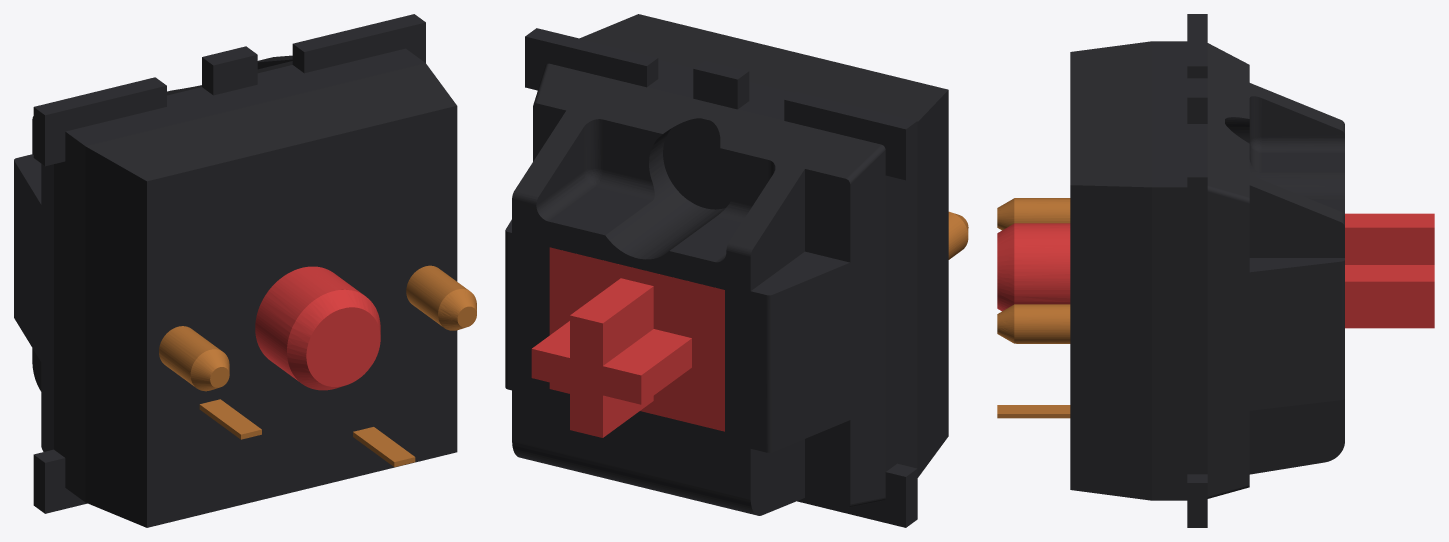
Rendered from switch.glb.
3 renders of one model, left to right at view 1: azimuth 30°, elevation 25°; view 2: azimuth 150°, elevation 25°; view 3: azimuth 270°, elevation 25°, orthographic. The views are drawn at different scales.
Visible parts, largest first — view 1: body, stem, pins; view 2: body, stem, pins; view 3: body, stem, pins.
Part boxes in pixels (<box>): body: <box>14,14,457,527</box>; stem: <box>255,266,380,390</box>; pins: <box>159,265,476,467</box>; body: <box>505,14,948,527</box>; stem: <box>531,247,724,437</box>; pins: <box>948,211,968,259</box>; body: <box>1070,14,1344,527</box>; stem: <box>997,213,1434,328</box>; pins: <box>997,198,1070,418</box>.
Size of the model in its own units: 15.64 by 16.33 by 17.69.
